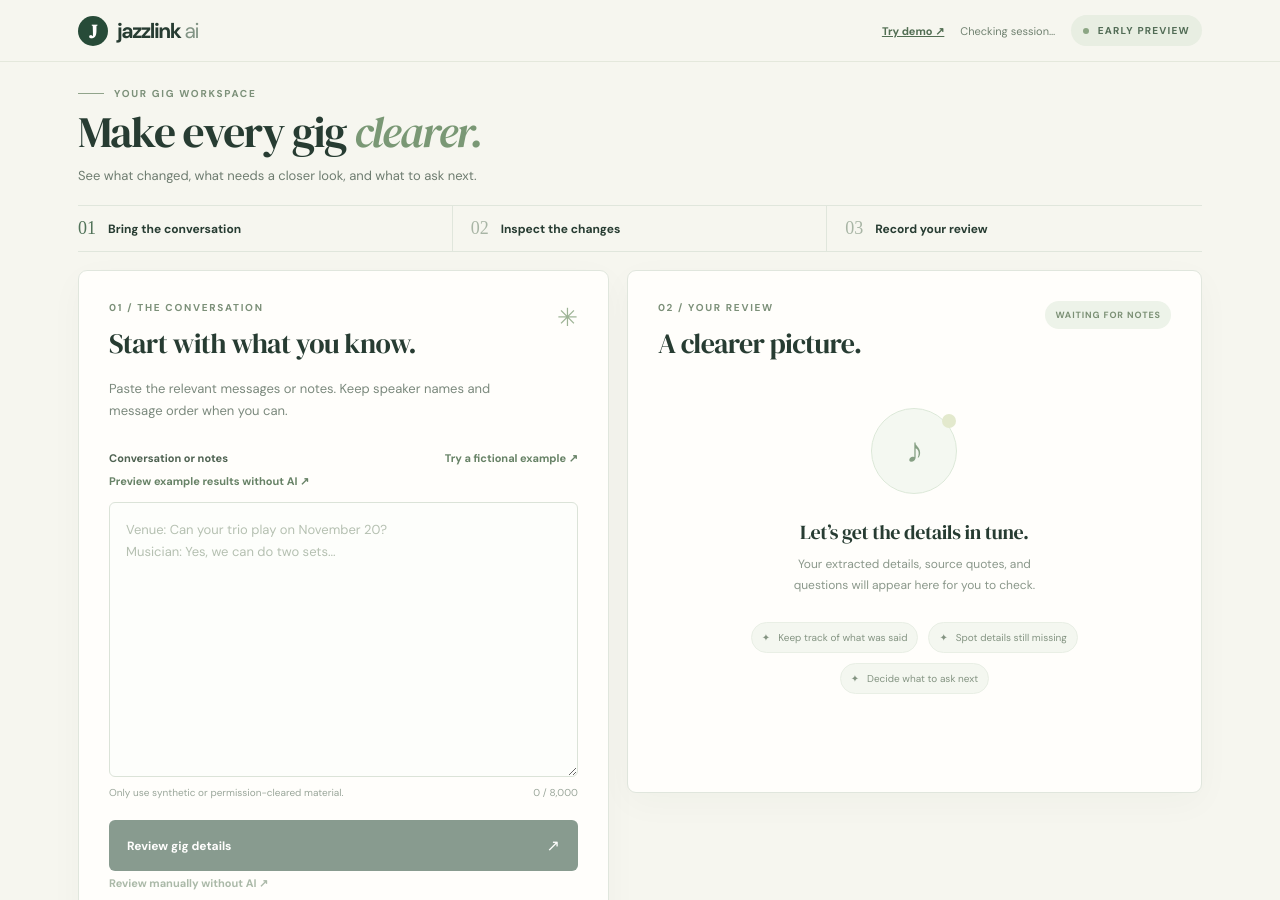
Test: workspace interaction › flags original questions when the source changes without making an AI request
Click the button "Preview example results without AI ↗" at (209, 481), box [109,470,309,492]
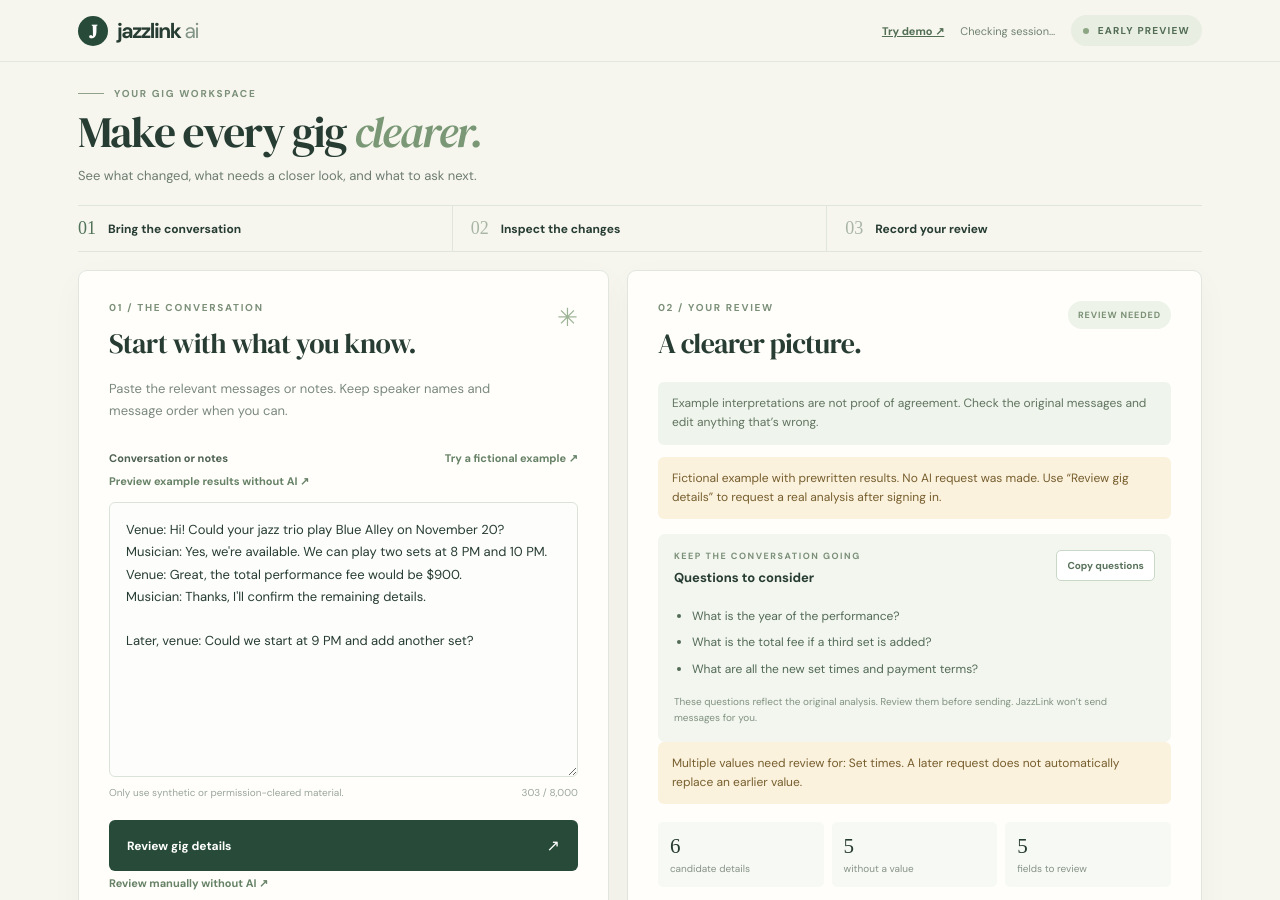
Replace the text in the text box labelled "Conversation or notes" with "Changed source" at (344, 640), box [109,502,578,777]
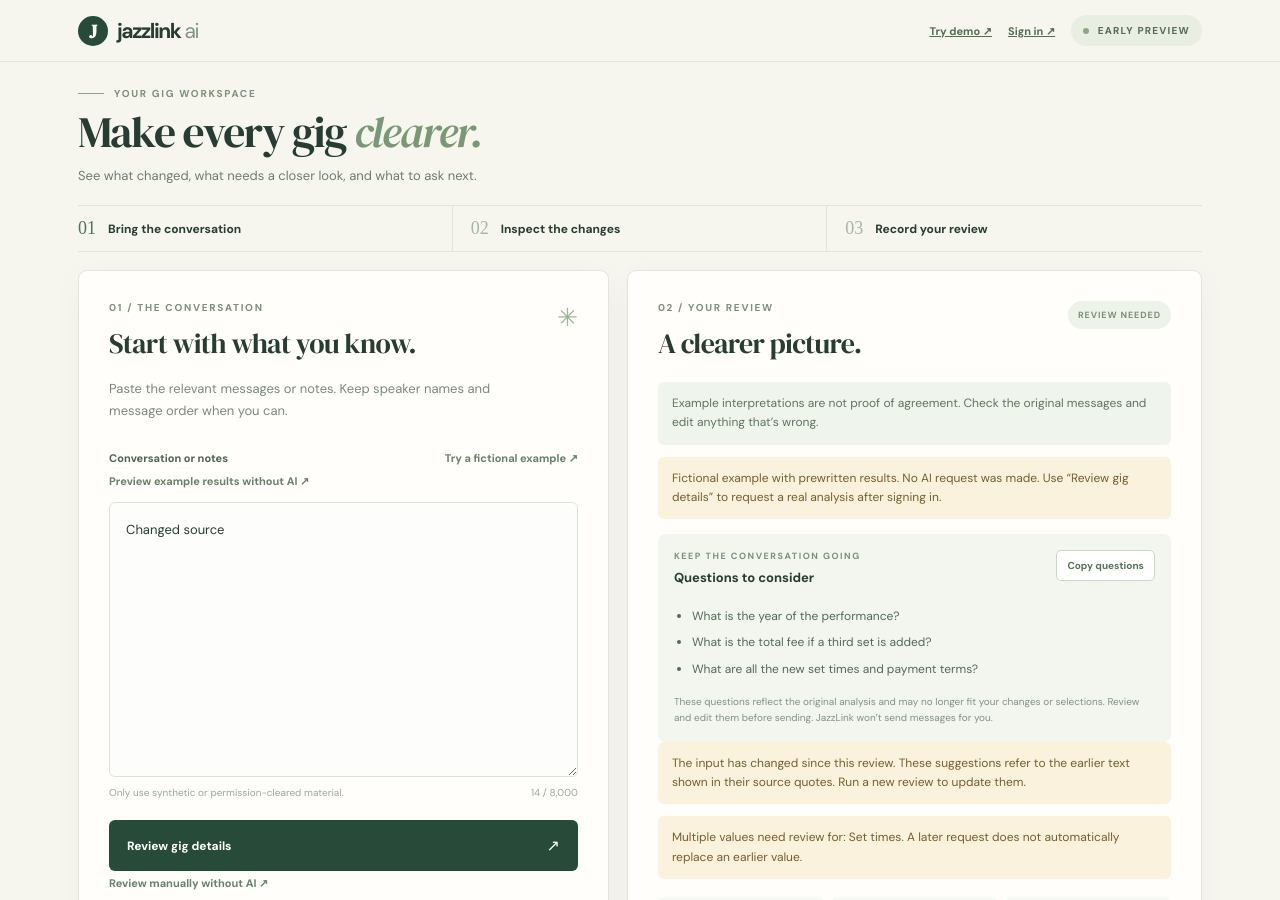
Expected: the text "may no longer fit your changes or selections" is shown, [674,695,1139,724]
